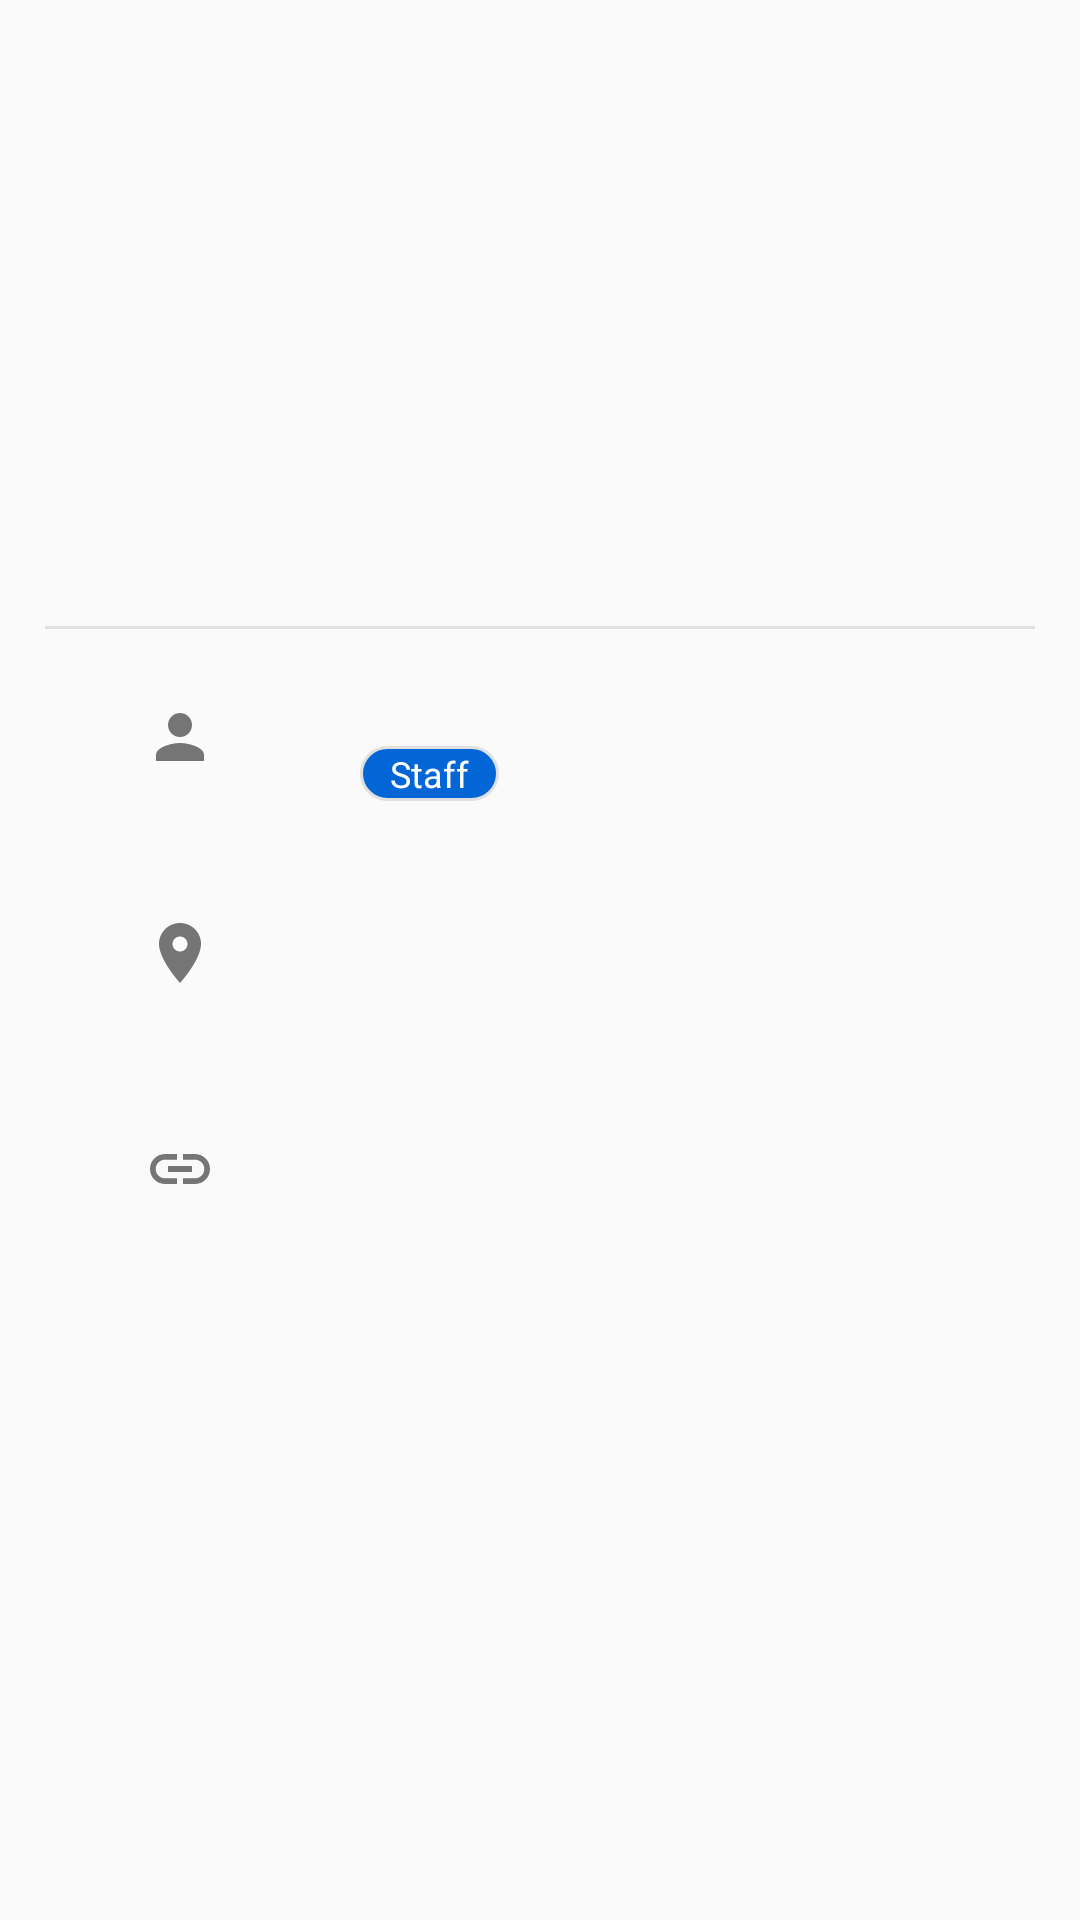

Named icons in this screenshot (1080 x 1920) and their centers, point (x, y):
link: point (180, 1169)
location on: point (180, 953)
person: point (180, 737)
